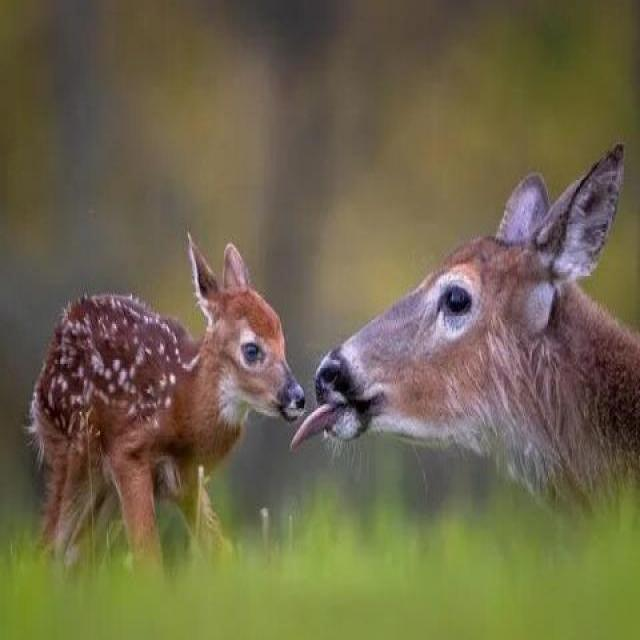deer: (296, 77, 610, 476), (49, 209, 319, 599)
